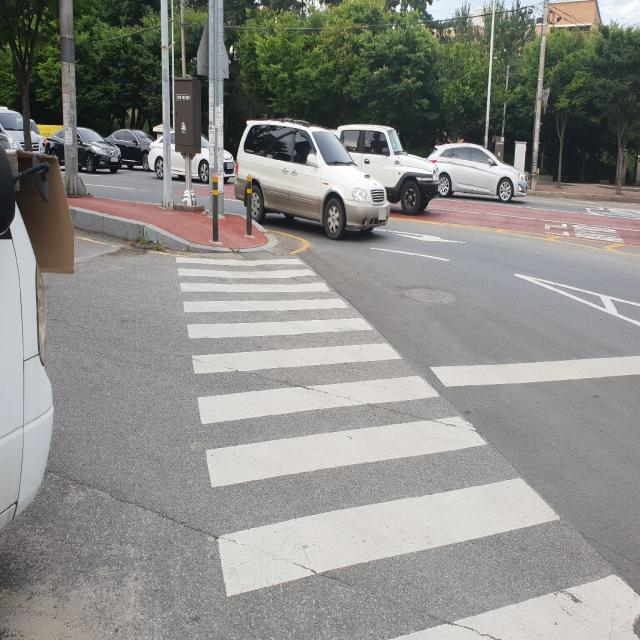횡단보도: (172, 247, 640, 640)
